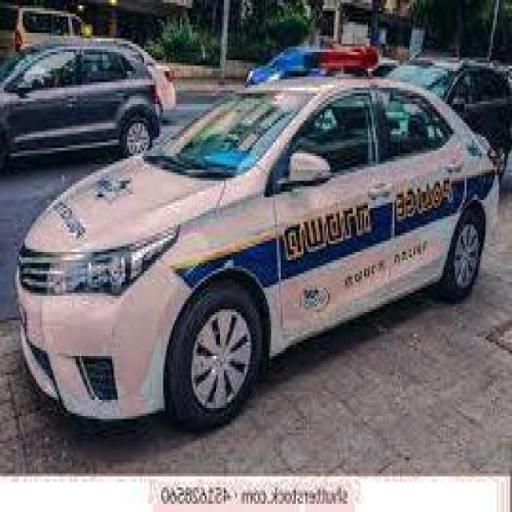Ambulance: (17, 46, 501, 422)
